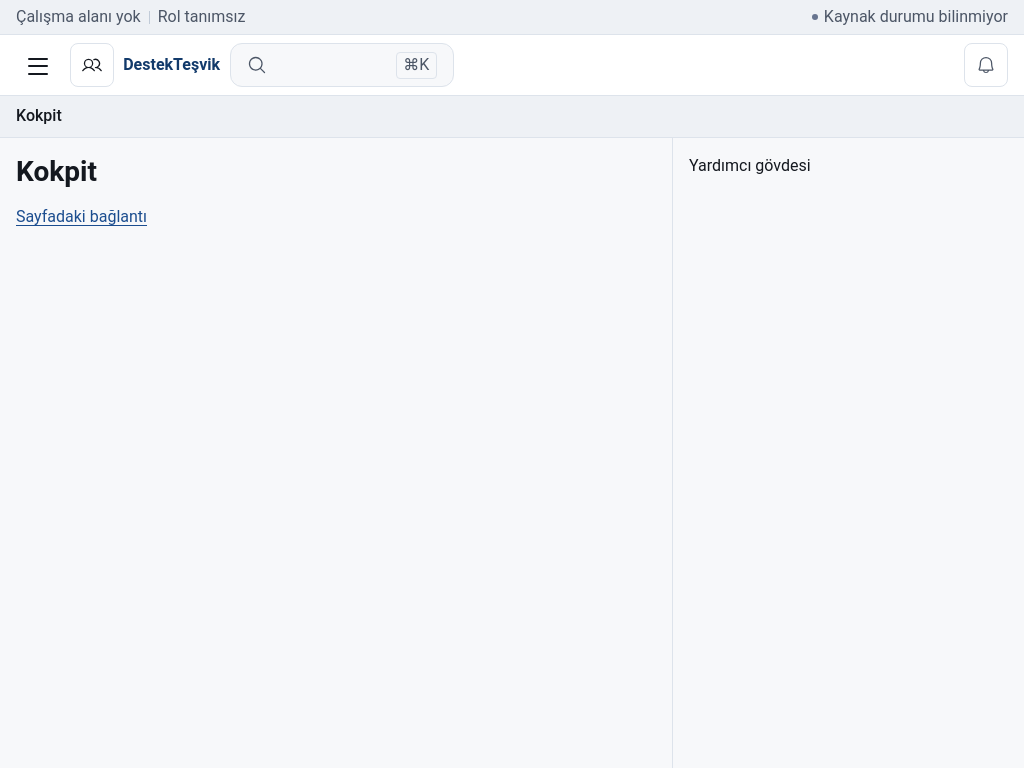
Test: the mobile navigation lives behind the shared adaptive drawer › opens a modal dialog with a backdrop from the header hamburger
Click the button named "Menü".
click(38, 65)  # box x1=16 y1=43 x2=60 y2=87
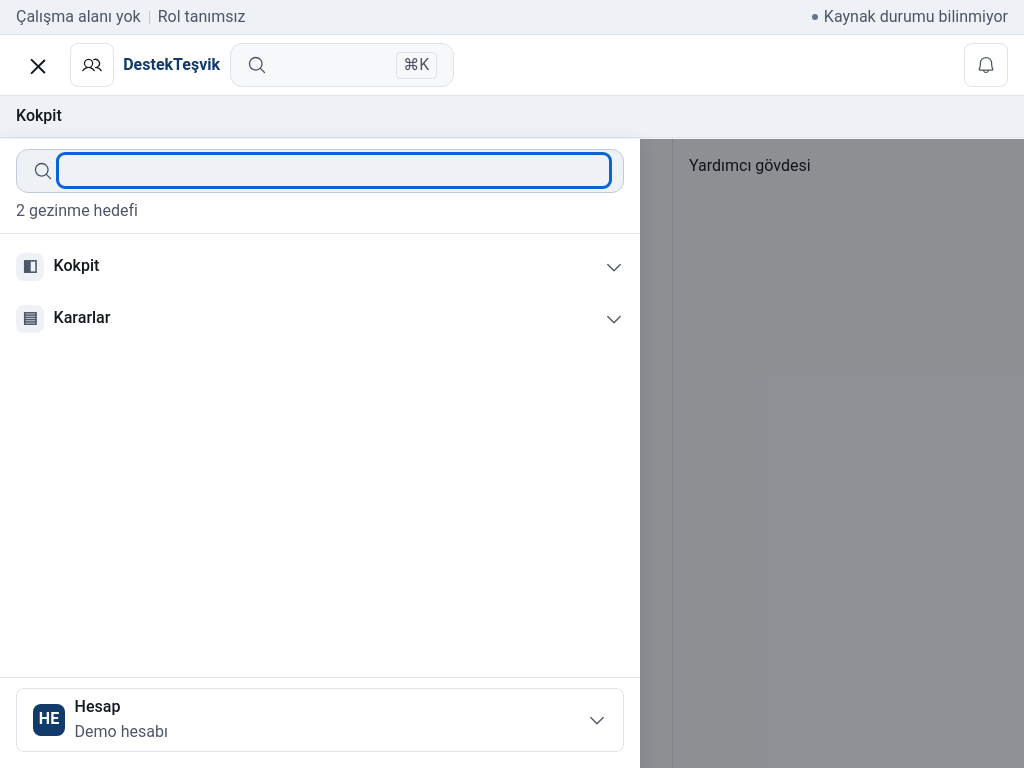
Expected: the element with class "dt-drawer__overlay" is shown
